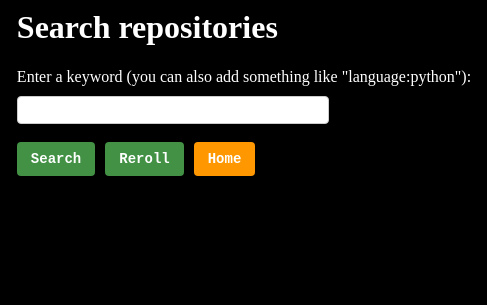
Test: Search › performs a search and displays repositories
Type "react" into the field at (173, 110), box [17,96,329,124]
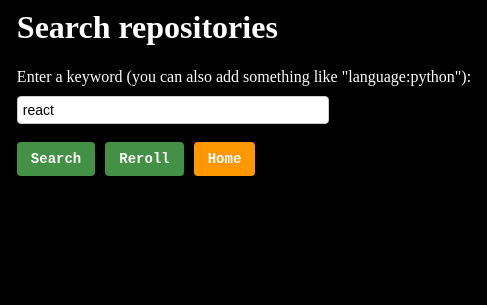
Click the button "Search" at (56, 159), box [17,142,95,176]
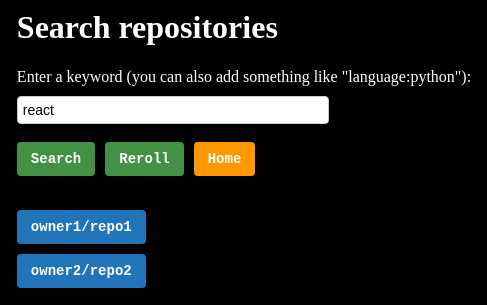
Expected: the button "owner1/repo1" is shown, [17,210,146,244]
Expected: the button "owner2/repo2" is shown, [17,254,146,288]
